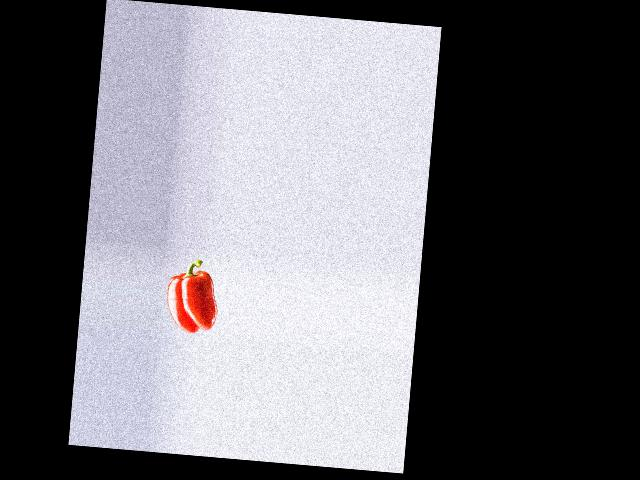bell_pepper: (161, 256, 222, 333)
